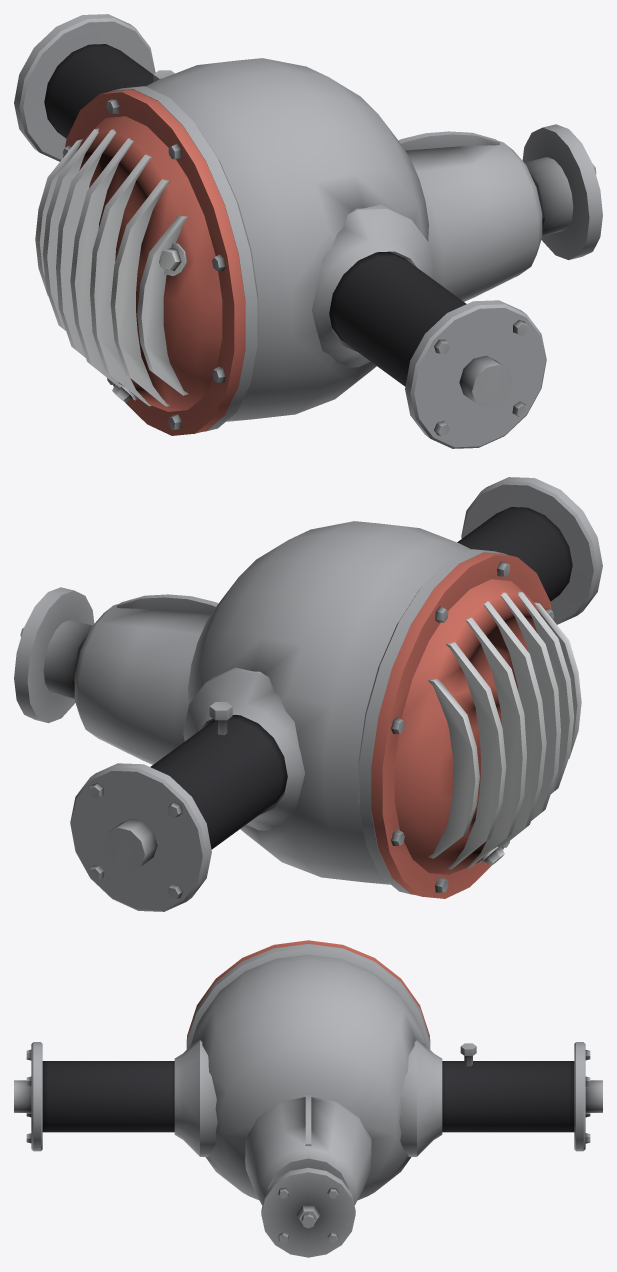
Rendered from diff_lsd.glb.
3 renders of one model, top to bottom at view 1: azimuth 30°, elevation 25°; view 2: azimuth 150°, elevation 25°; view 3: azimuth 270°, elevation 25°, orthographic. The views are drawn at different scales.
Visible parts, largest first — view 1: PART; view 2: PART; view 3: PART.
Part boxes in pixels (x1,y1,x2,y2): PART: (14, 14, 602, 448); PART: (14, 477, 602, 911); PART: (14, 940, 602, 1257).
Size of the model in its own units: 0.4408 by 0.268 by 0.625.
